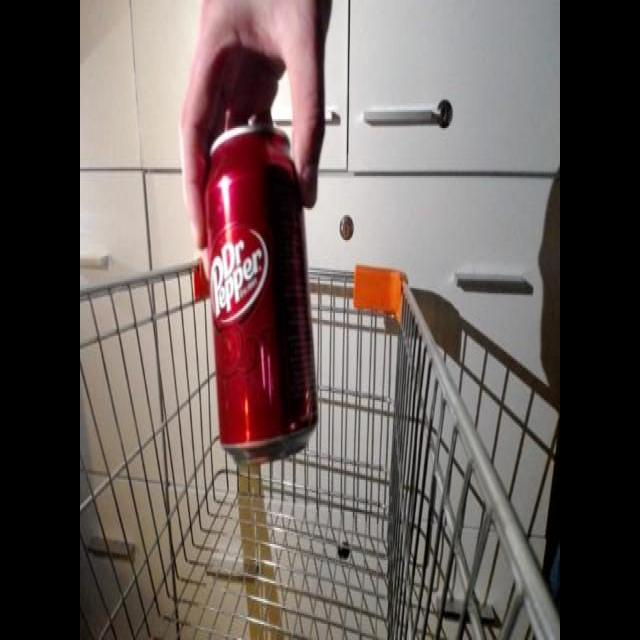Dr Pepper: (200, 111, 322, 485)
